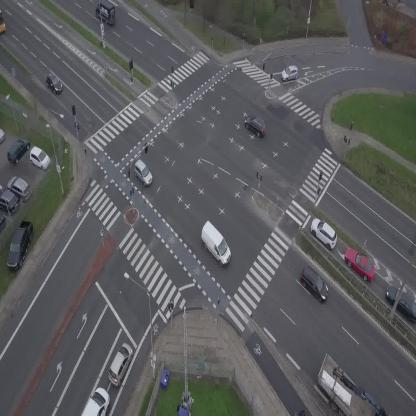bicycle: (295, 411, 304, 416)
bus: (0, 10, 6, 33)
car: (340, 242, 382, 286), (103, 340, 137, 388), (295, 265, 334, 304), (305, 214, 343, 252), (240, 110, 270, 139), (129, 158, 157, 188), (81, 387, 109, 416), (42, 72, 66, 96), (279, 64, 300, 82)
lorry: (302, 353, 391, 416), (193, 220, 238, 268)
